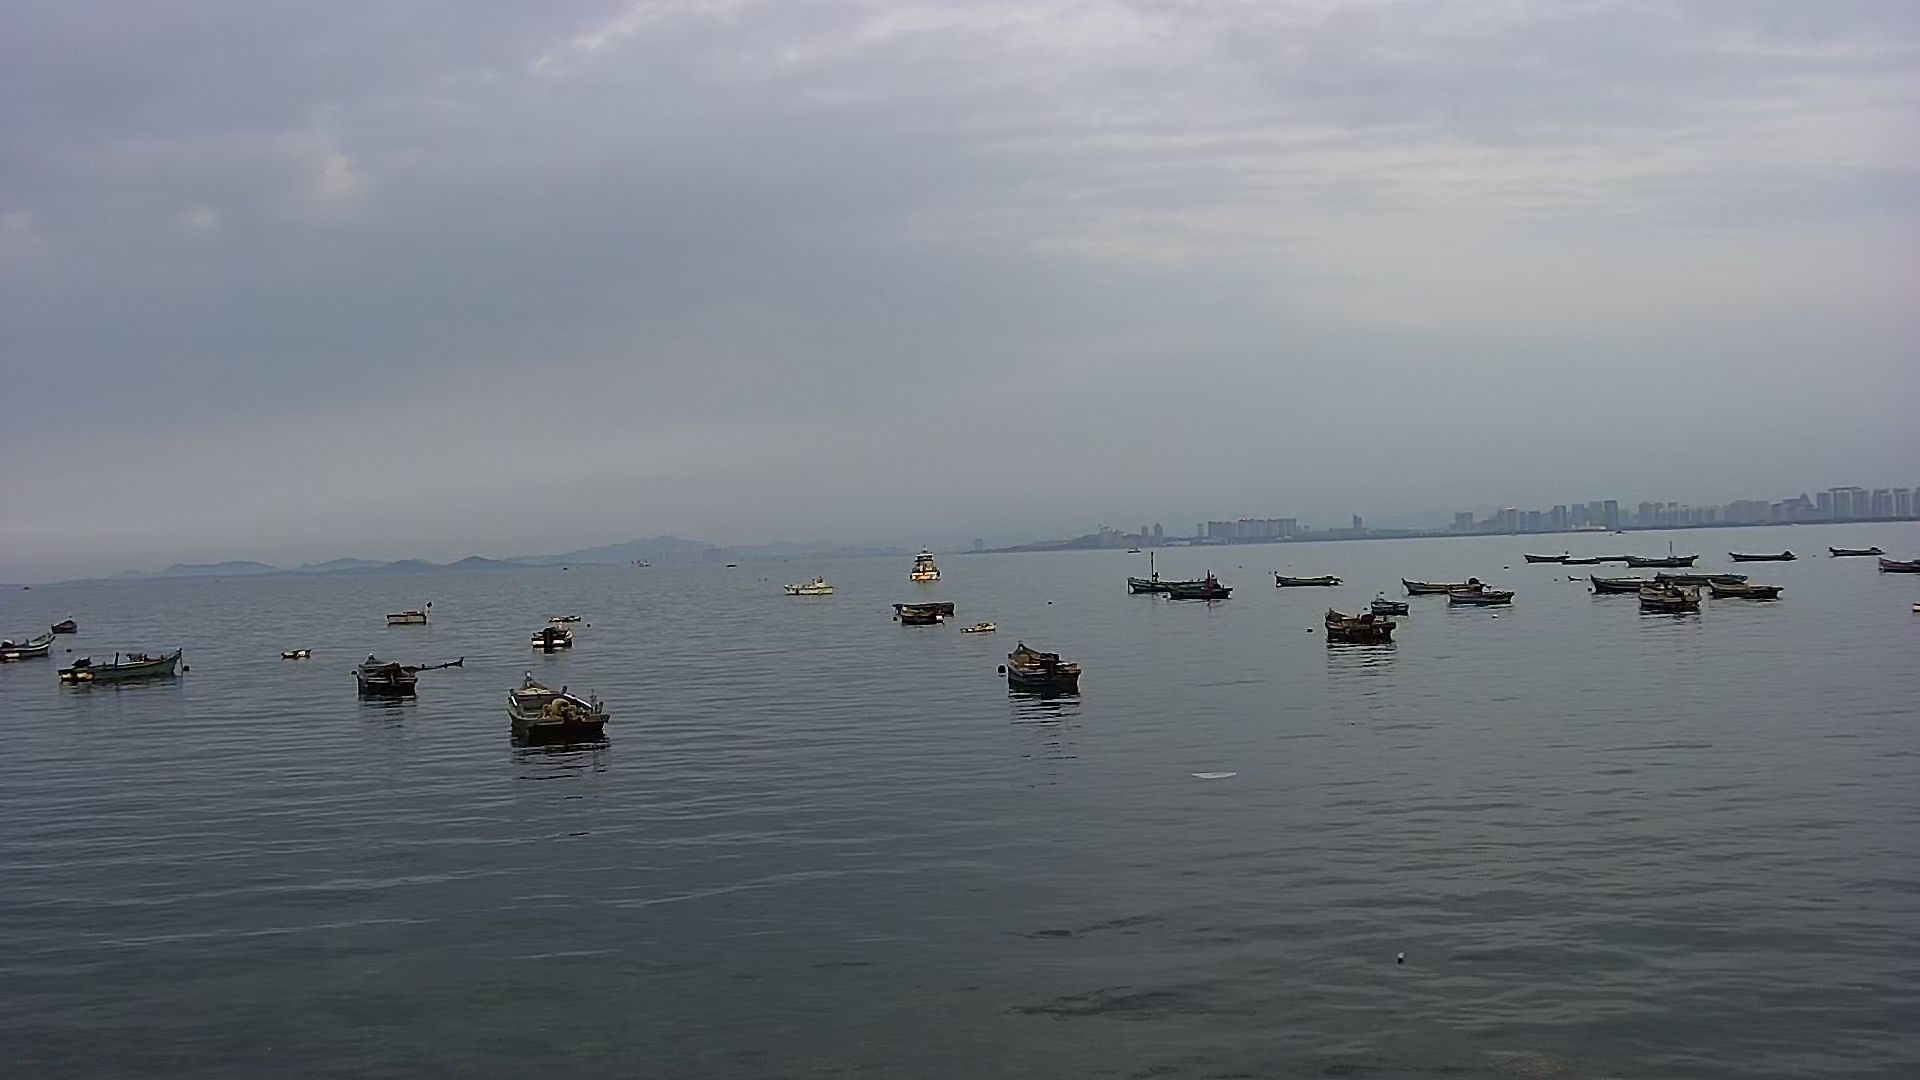boat: (1116, 546, 1238, 613), (502, 680, 607, 760), (1002, 636, 1091, 713), (1395, 568, 1510, 616), (357, 650, 436, 719), (65, 657, 196, 698), (874, 597, 978, 647), (1680, 567, 1782, 615), (1527, 530, 1615, 575), (1725, 527, 1807, 572), (1, 622, 53, 682), (526, 603, 582, 654), (1276, 551, 1344, 593), (375, 612, 448, 647), (1315, 612, 1396, 644), (1592, 568, 1658, 607), (1644, 592, 1705, 622), (786, 572, 833, 607), (1828, 535, 1879, 563), (1880, 551, 1920, 585), (46, 608, 84, 640)
platform: (897, 541, 957, 588)
